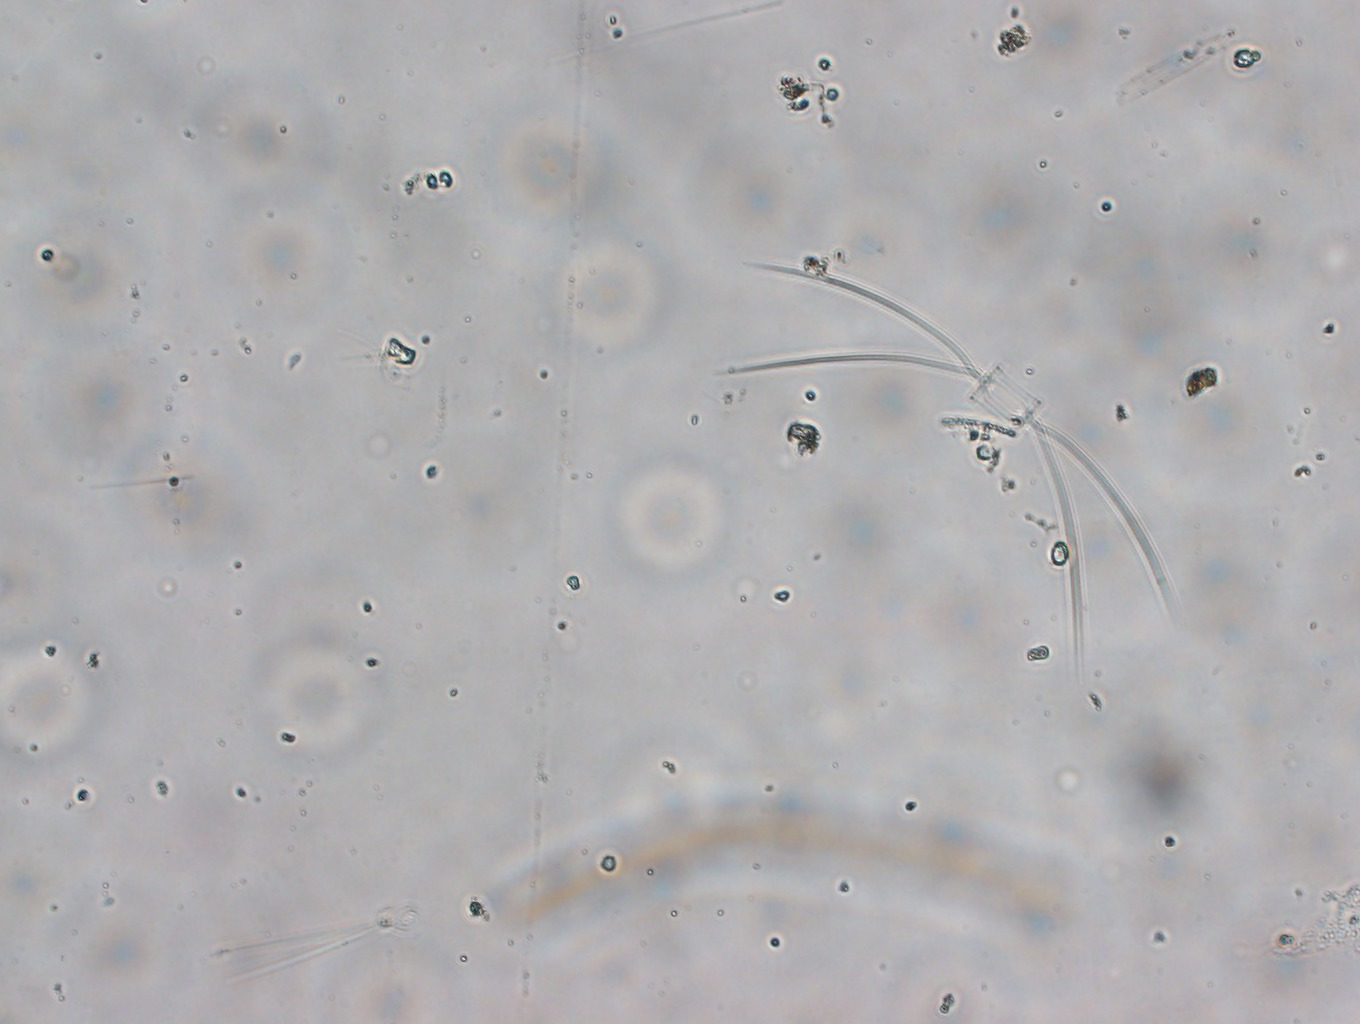chaetoceros: (732, 250, 1189, 702)
